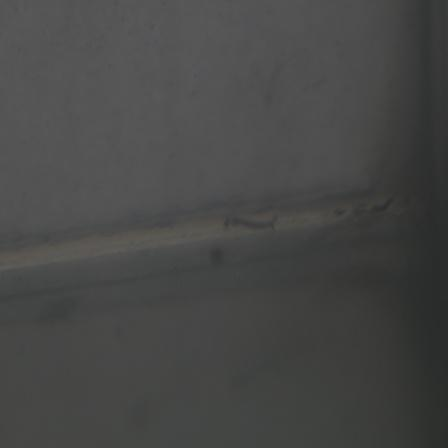Jentik-Nyamuk: (218, 211, 280, 237), (367, 192, 394, 215)
